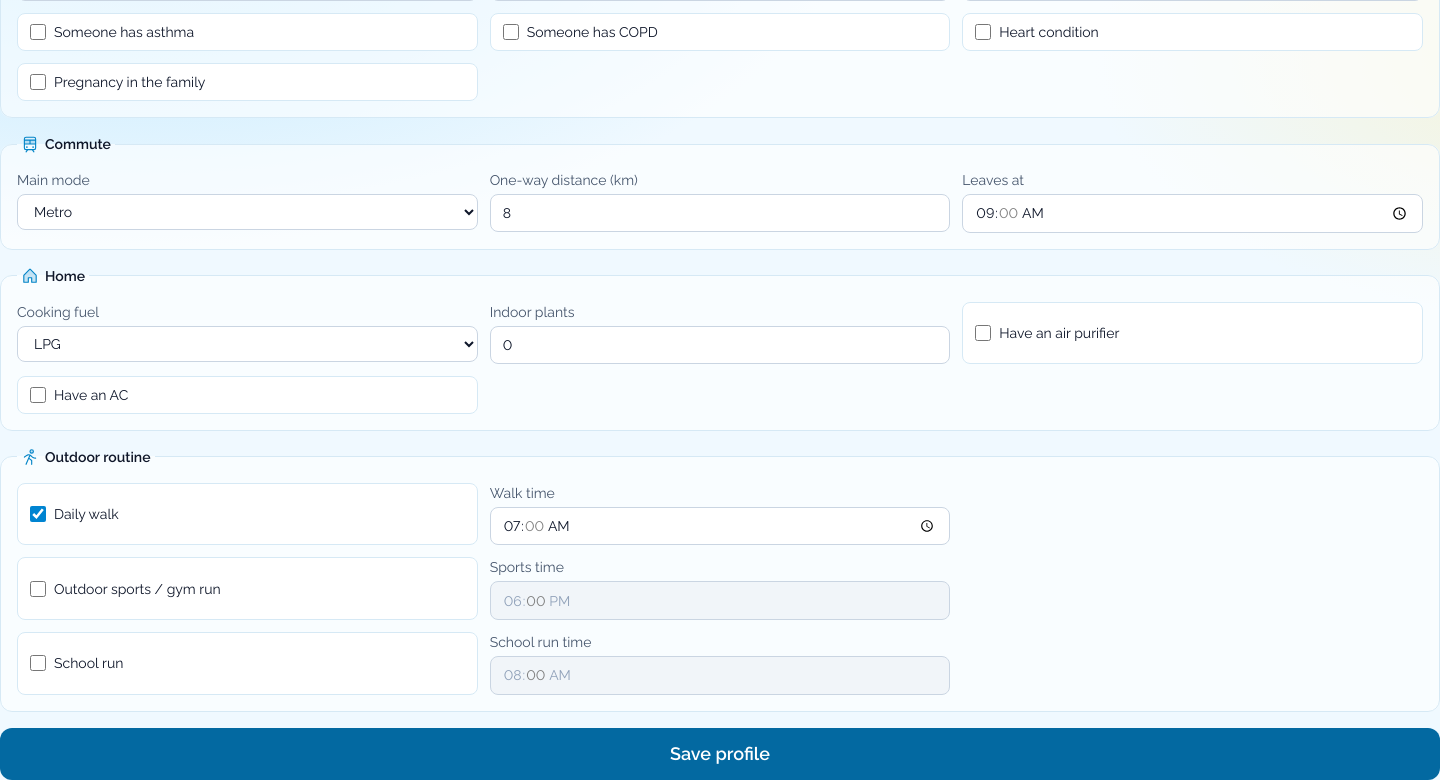
Test: ProfileForm › needs at least one household member
(page scrolled)
Click the button "Save profile": (720,754) 0,728 -> 1439,779
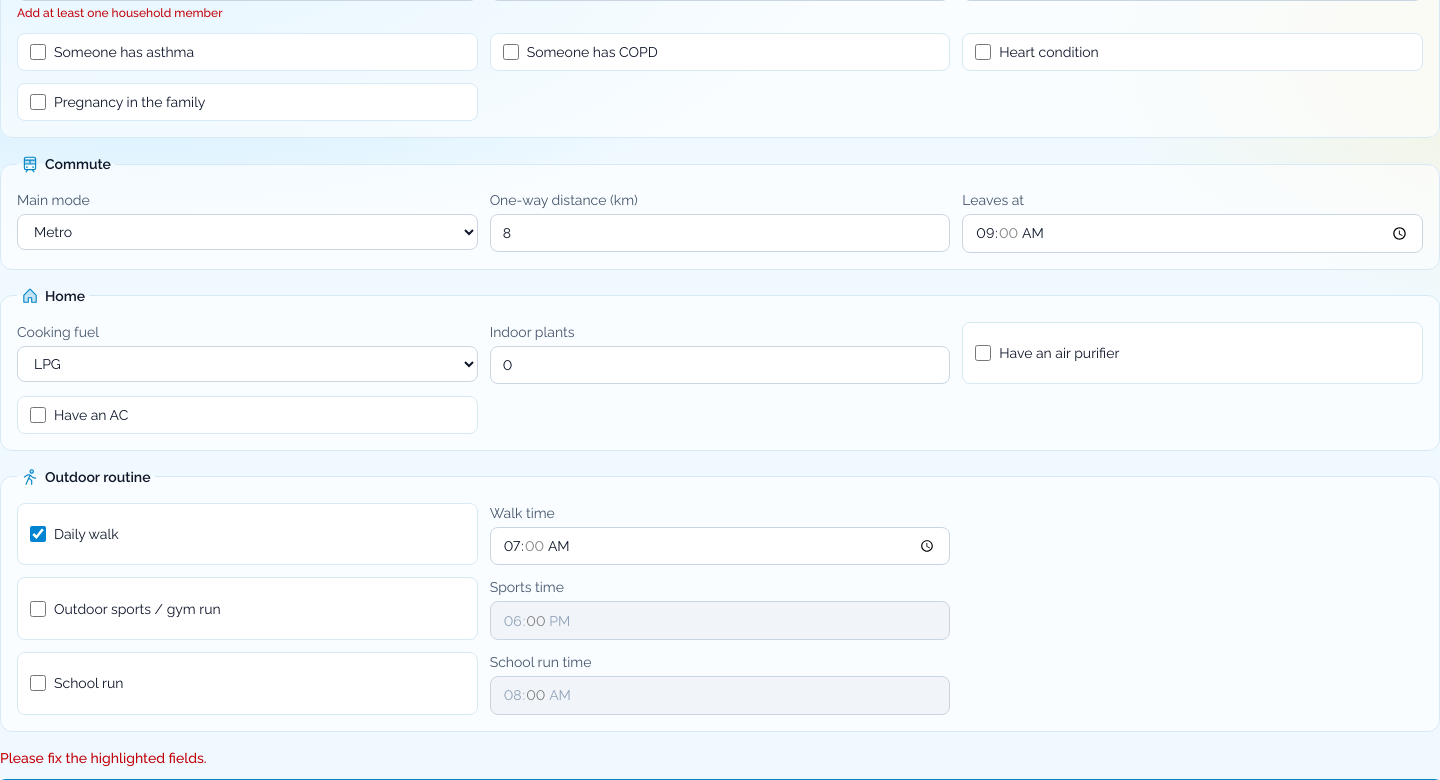
Expected: the text "Add at least one household member" is shown, 17,6 -> 222,20
